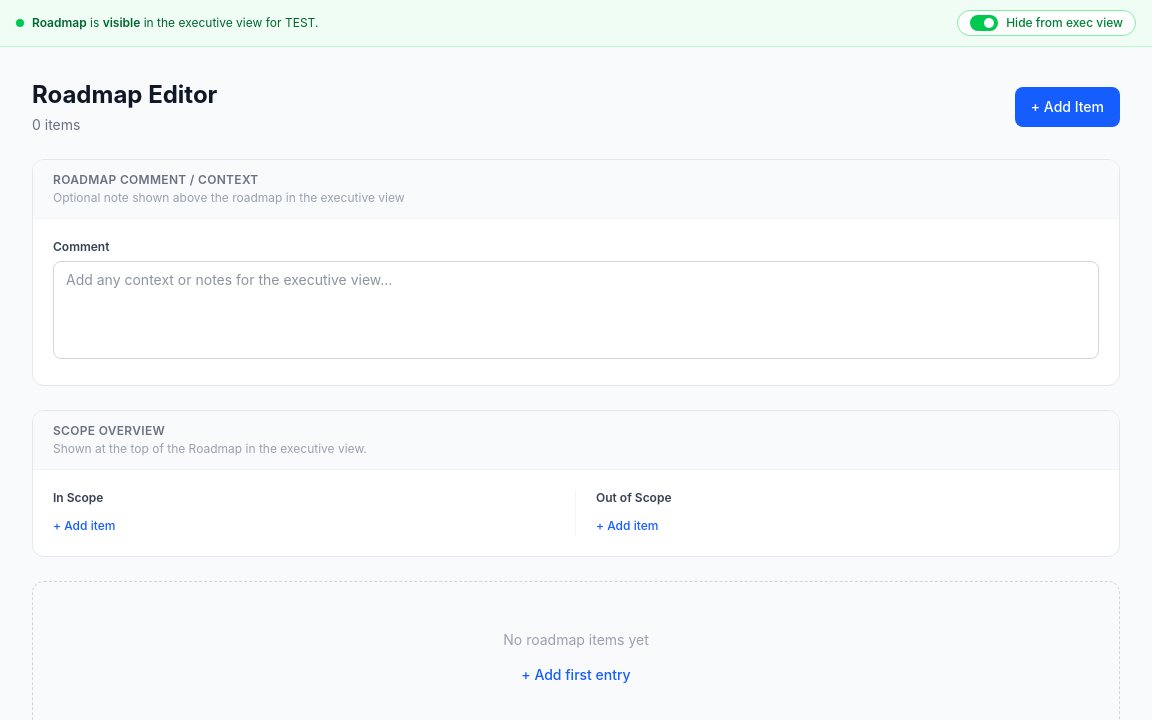
Test: RoadmapEditor › T-33.02: "+ Add Item" button opens modal
Step 1. Click the button "+ Add Item" → (1067, 107), box [1015, 87, 1120, 127]
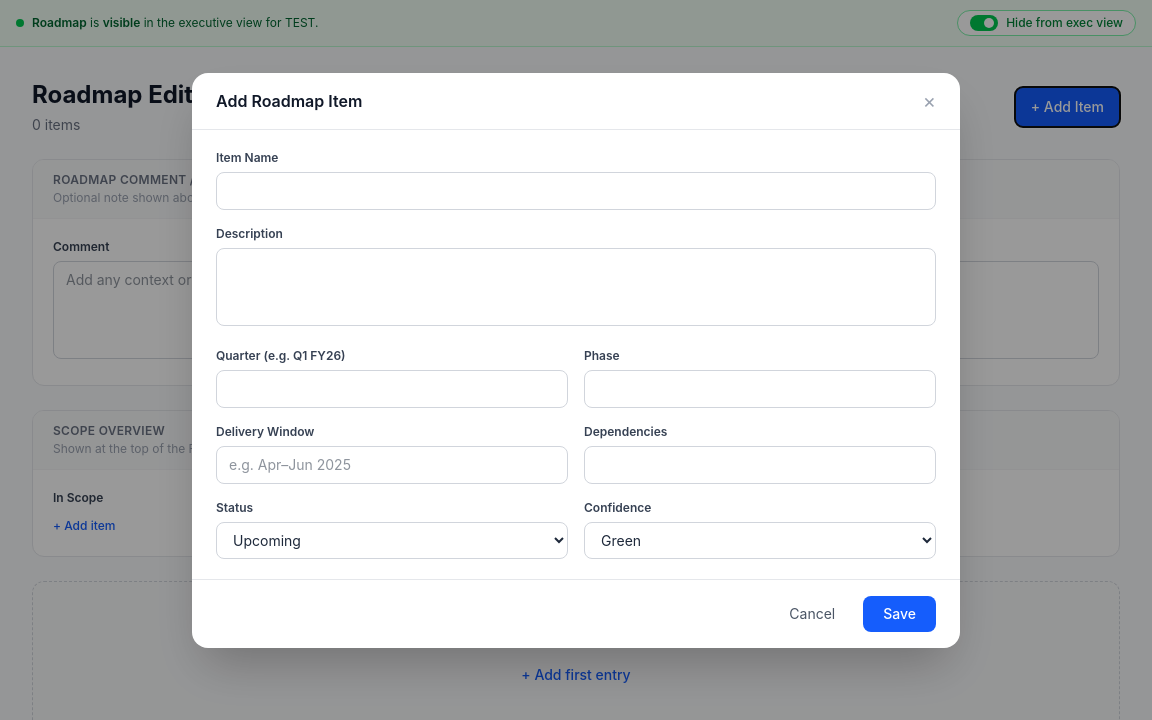
expect the heading "Add Roadmap Item" is shown: met, box [216, 88, 362, 112]
